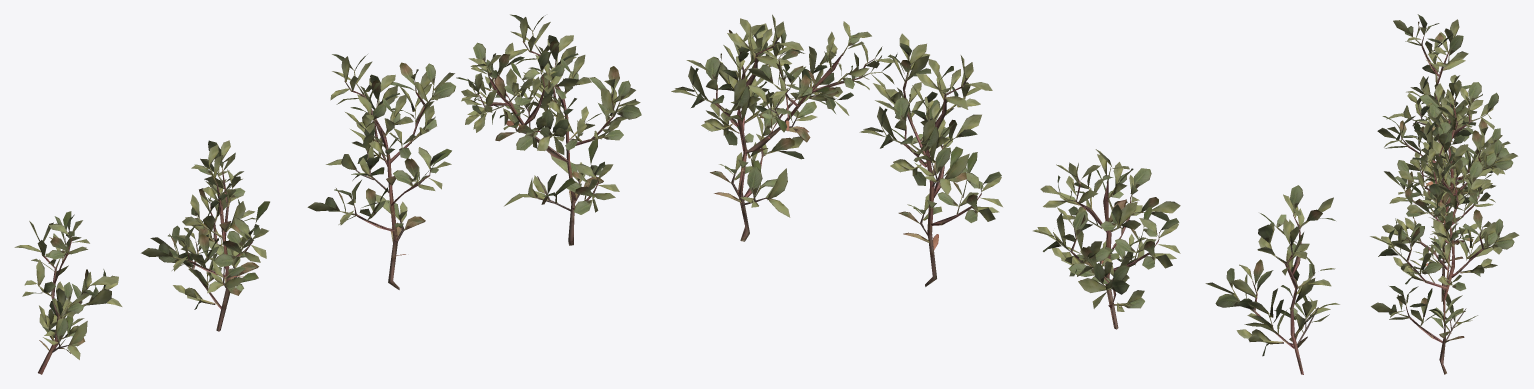
The model's file is shrub_04.glb.
3 renders of one model, left to right at view 1: azimuth 30°, elevation 25°; view 2: azimuth 150°, elevation 25°; view 3: azimuth 270°, elevation 25°, orthographic. The views are drawn at different scales.
Visible parts, largest first — view 1: shrub_04; view 2: shrub_04; view 3: shrub_04.
Part boxes in pixels (left/top/right/bottom): shrub_04: left=14, top=14, right=641, bottom=374; shrub_04: left=671, top=14, right=1339, bottom=374; shrub_04: left=1370, top=14, right=1519, bottom=374.
Bounding box in the file's own units: 0.5832 × 0.2189 × 0.1457.
1 material, 1 textured.
